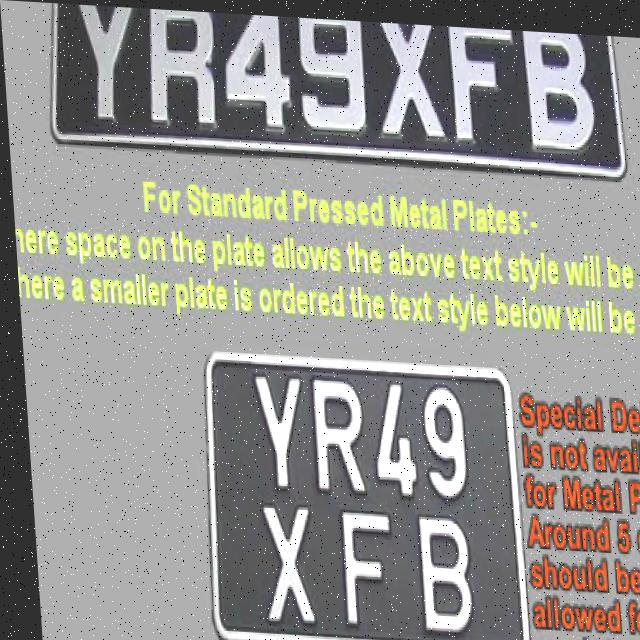plate: (188, 342, 525, 640), (42, 2, 620, 172)
